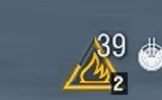2fire: (58, 60, 130, 96)
